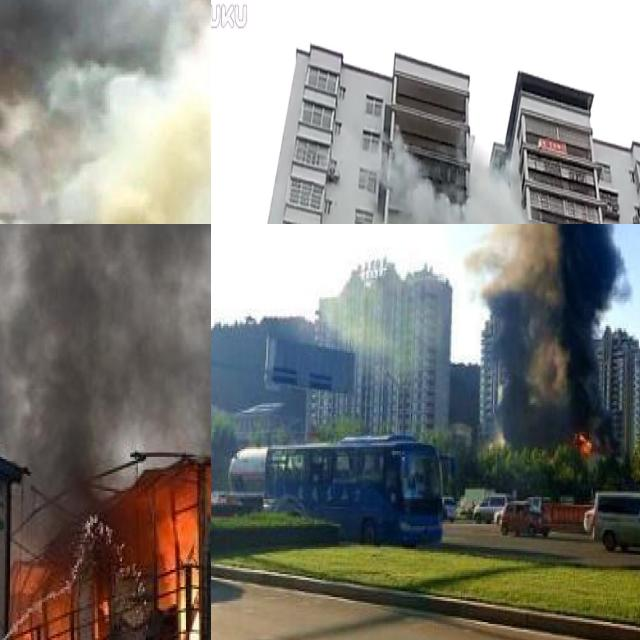fire: (163, 516, 202, 640), (574, 426, 592, 453)
smoke: (0, 224, 211, 580), (0, 0, 211, 224), (467, 224, 640, 449), (381, 147, 466, 224), (464, 163, 530, 224)
